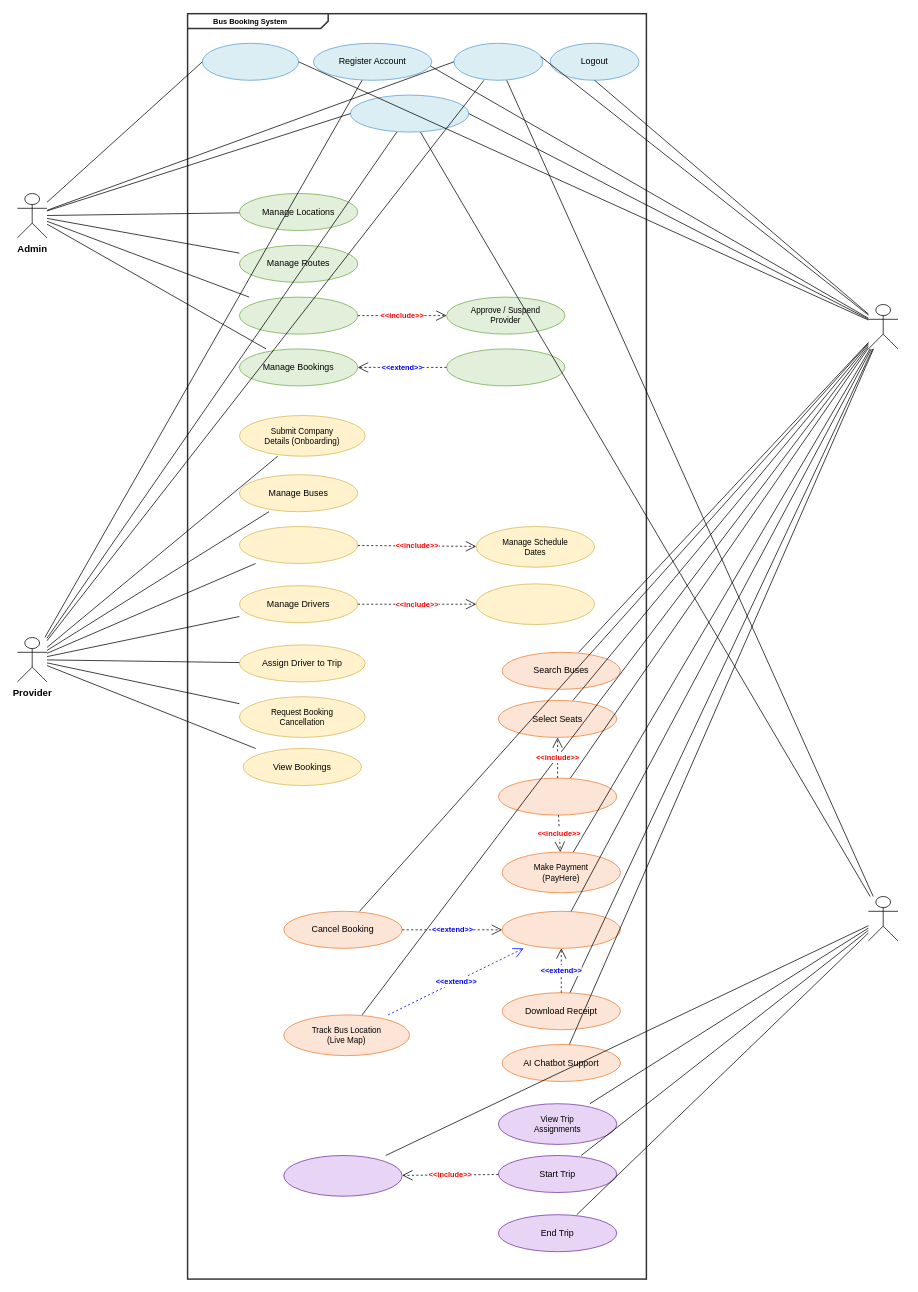
Some shapes in this 918 by 1292 pixel diagram are drawn without their labels. The centre of each missing label's shape, as x and y in pixels:
"Book Ticket" belongs at (557,796).
"Broadcast Live Location" belongs at (342,1175).
"Cancel Any Booking" belongs at (505,367).
"Create Driver Account" belongs at (535,604).
"Customer" belongs at (883,326).
"Driver" belongs at (883,918).
"Login" belongs at (498,61).
"Manage Providers" belongs at (298,315).
"Manage Schedules" belongs at (298,545).
"Update Profile" belongs at (250,61).
"View My Bookings" belongs at (560,929).
"View Notifications" belongs at (409,113).
